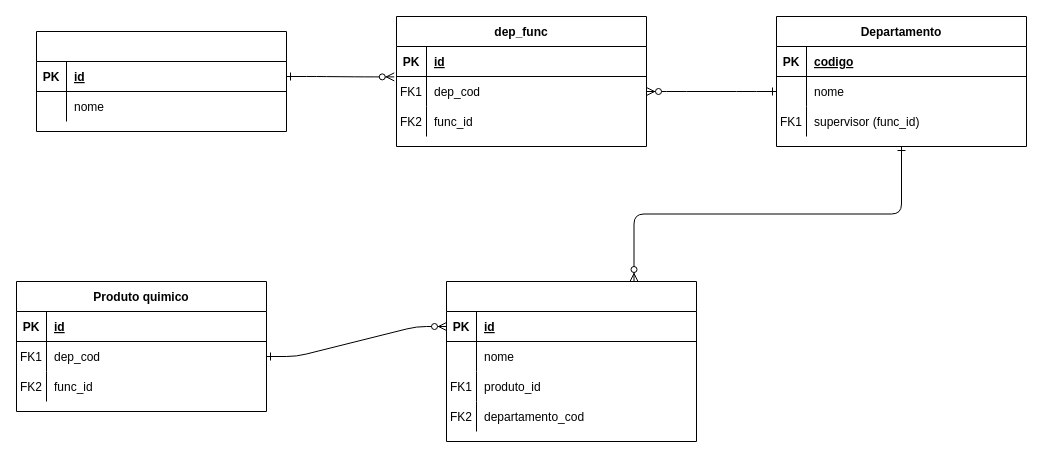
Some shapes in this 1043 by 458 pixel diagram are drawn without their labels. The shapes that lost their labels are listed below. From the top down, each one's box as (x1, y1, x2, y2) in pixels, then its label:
(36, 30, 286, 132): Funcionário
(446, 280, 696, 442): Equipamento
